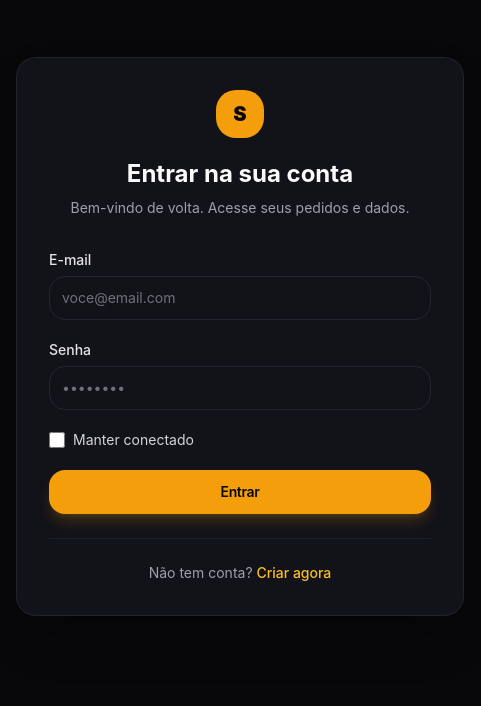
it: LoginPage › validates credentials before sending the login request
Step 1. Type "email-invalido" into the field labelled "E-mail" → (240, 298), box x1=49 y1=276 x2=431 y2=320
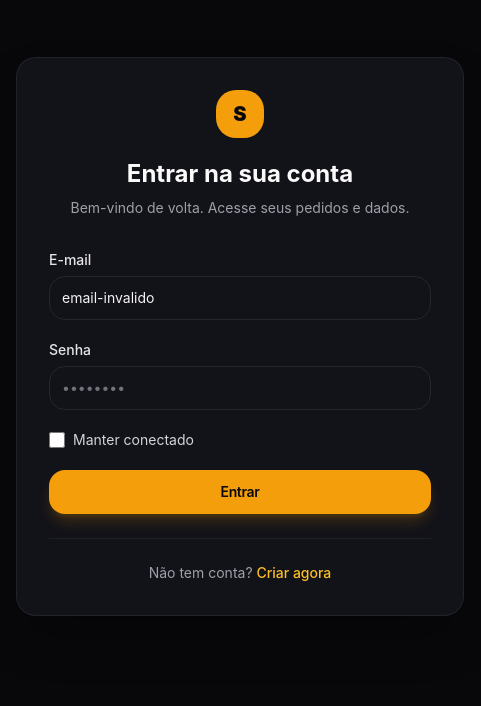
Step 2. Click the button "Entrar" → (240, 492), box x1=49 y1=470 x2=431 y2=514
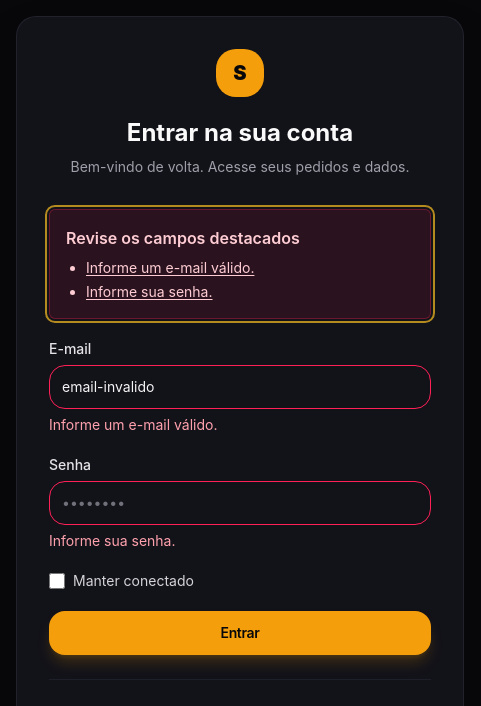
Check: the number of links "Informe um e-mail válido." is 2, box x1=86 y1=259 x2=254 y2=276; x1=49 y1=416 x2=217 y2=433
Check: the number of links "Informe sua senha." is 2, box x1=86 y1=283 x2=212 y2=300; x1=49 y1=532 x2=176 y2=549
